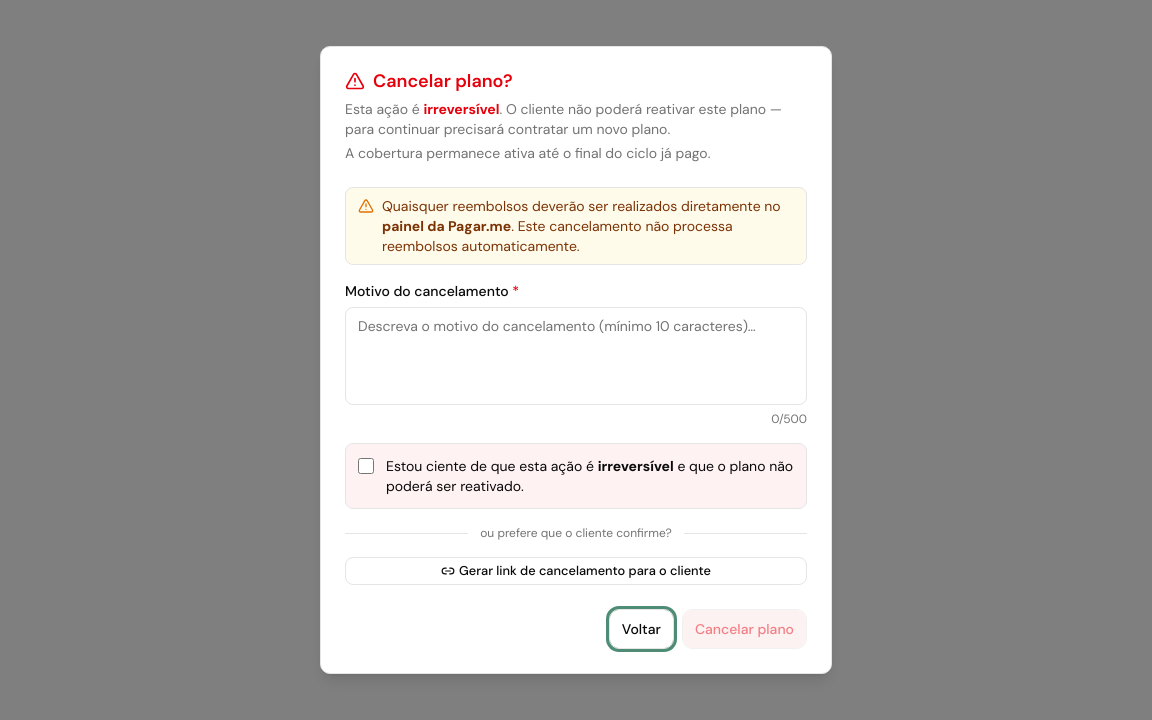
Test: CancelPlanDialog — confirm button gating › should disable confirm button again if reason is cleared after enabling
Type "Motivo com mais de dez caracteres." into the text box at (576, 356), box [345,307,807,405]
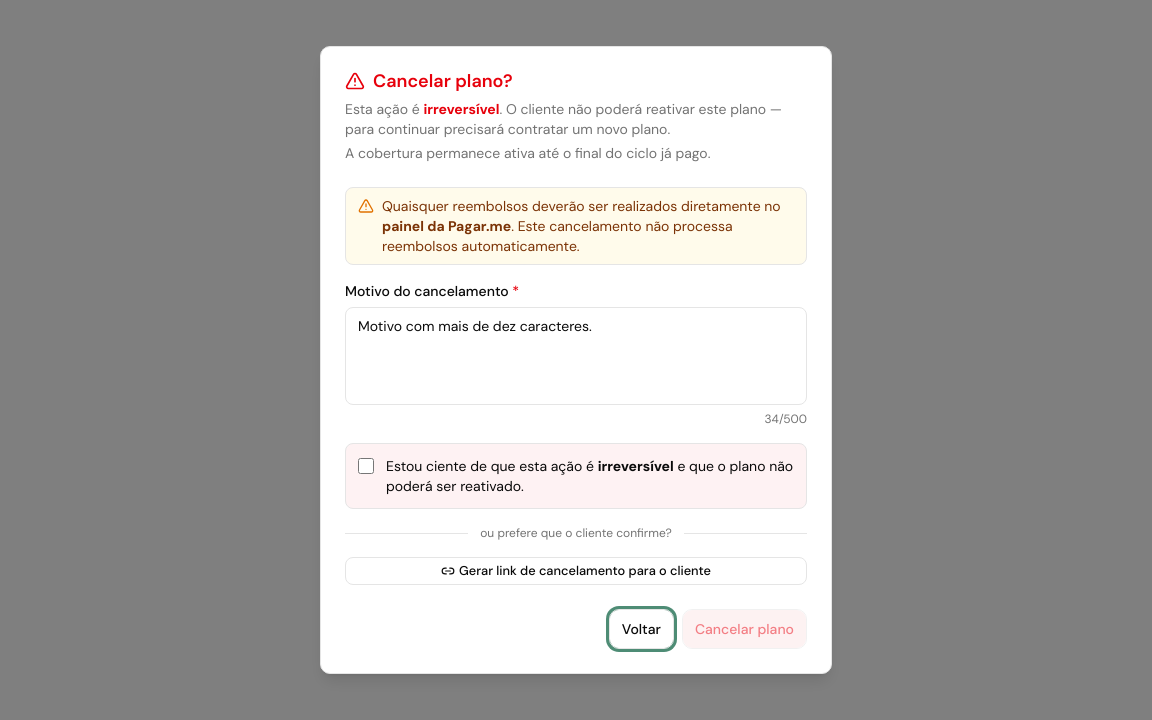
Click the checkbox at (366, 466), box [358,458,374,474]
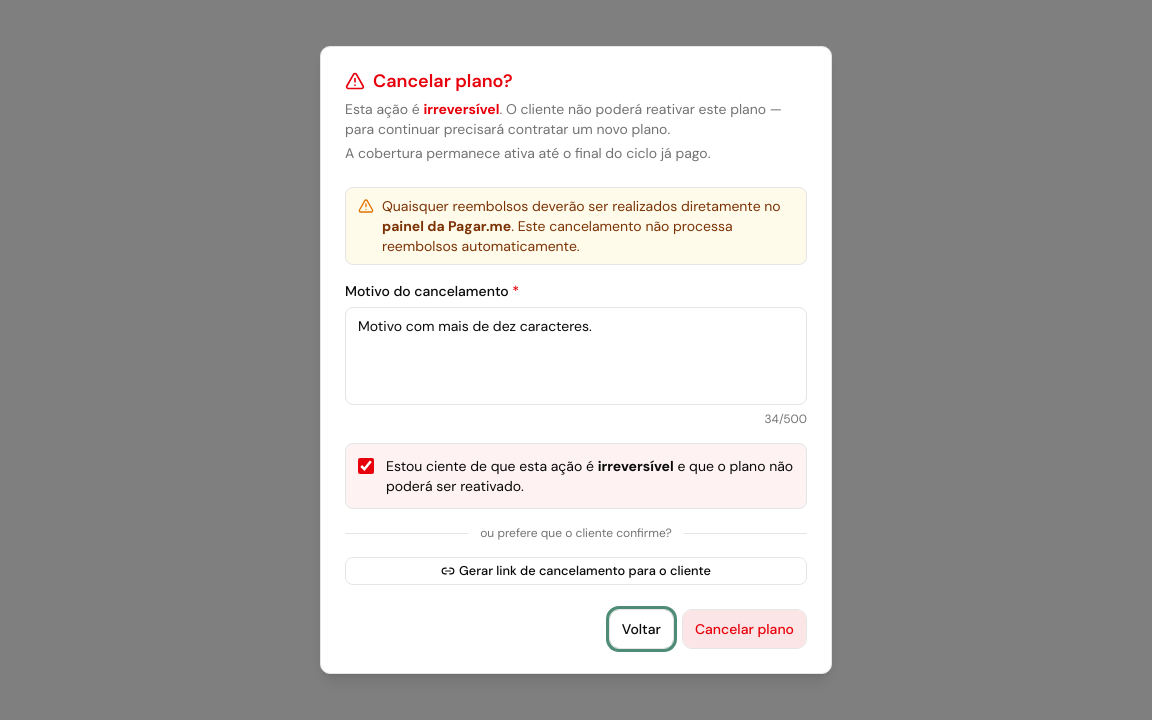
# Clear the reason
Clear the text box at (576, 356), box [345,307,807,405]
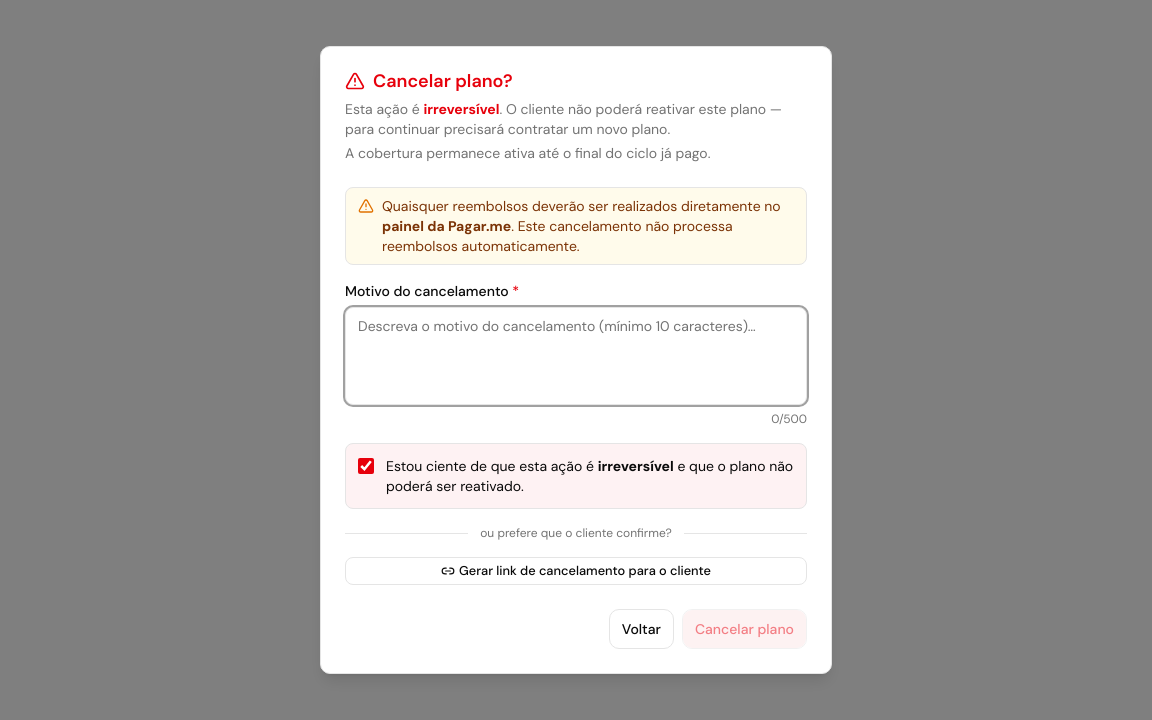
Expected: the button "Cancelar plano" is disabled, [682,609,807,649]
